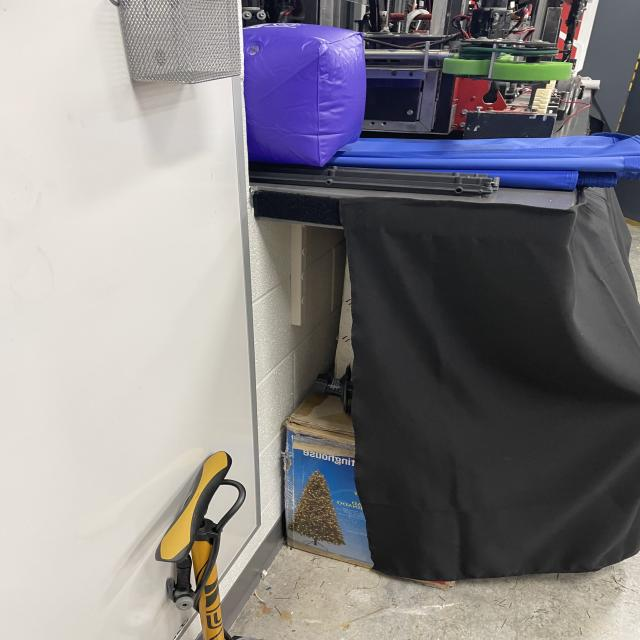frc_cube: (245, 18, 369, 169)
